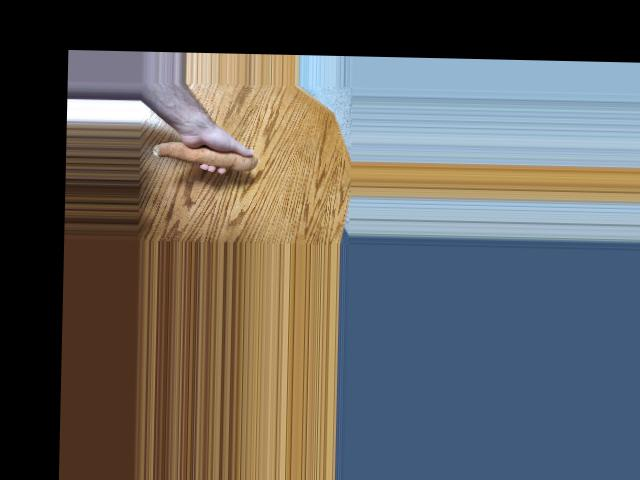sweet_potato: (153, 138, 256, 175)
